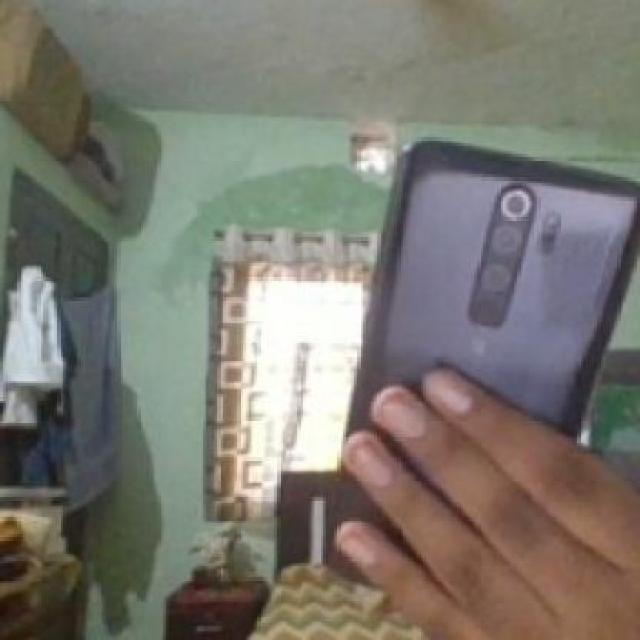Phone: (323, 136, 640, 573)
